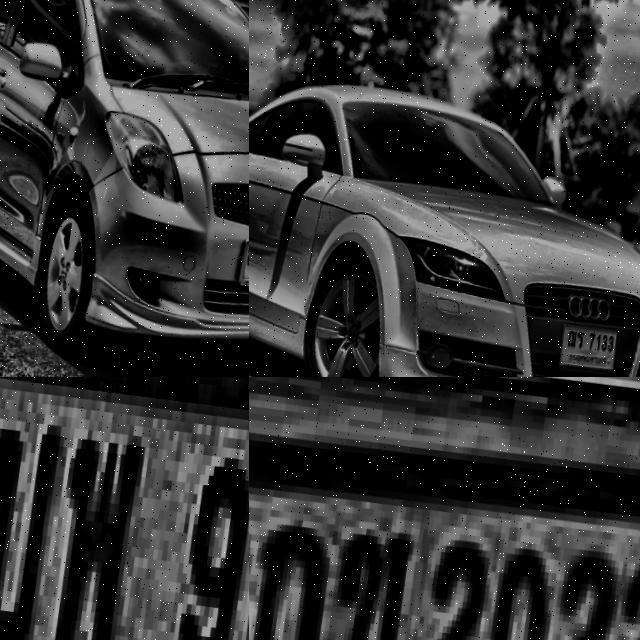license-plate: (249, 404, 640, 640), (0, 377, 249, 640), (554, 324, 621, 377), (232, 232, 249, 300)
